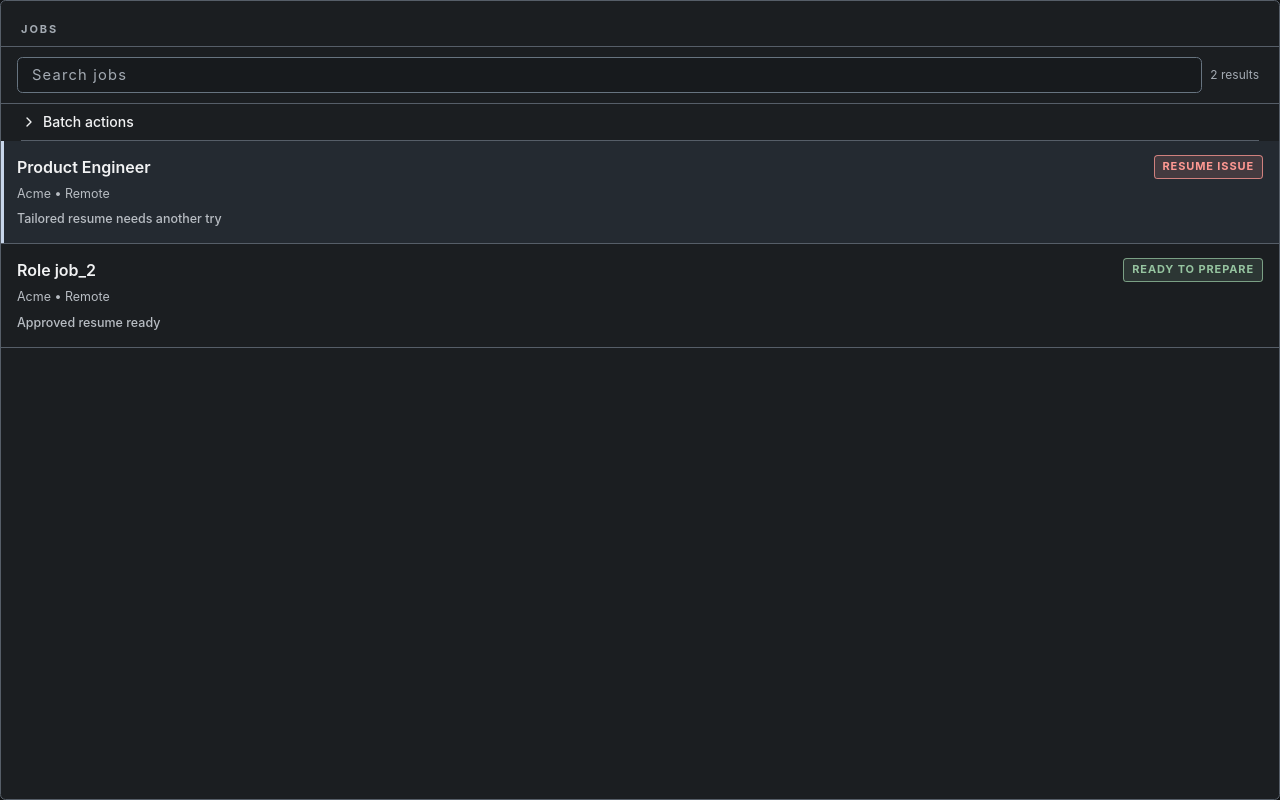
Test case: ReviewQueueListPanel › associates a disabled queue checkbox with its readiness explanation
The image size is (1280, 800).
Click the heading "Batch actions" at (77, 121), box [21,112,134,130]
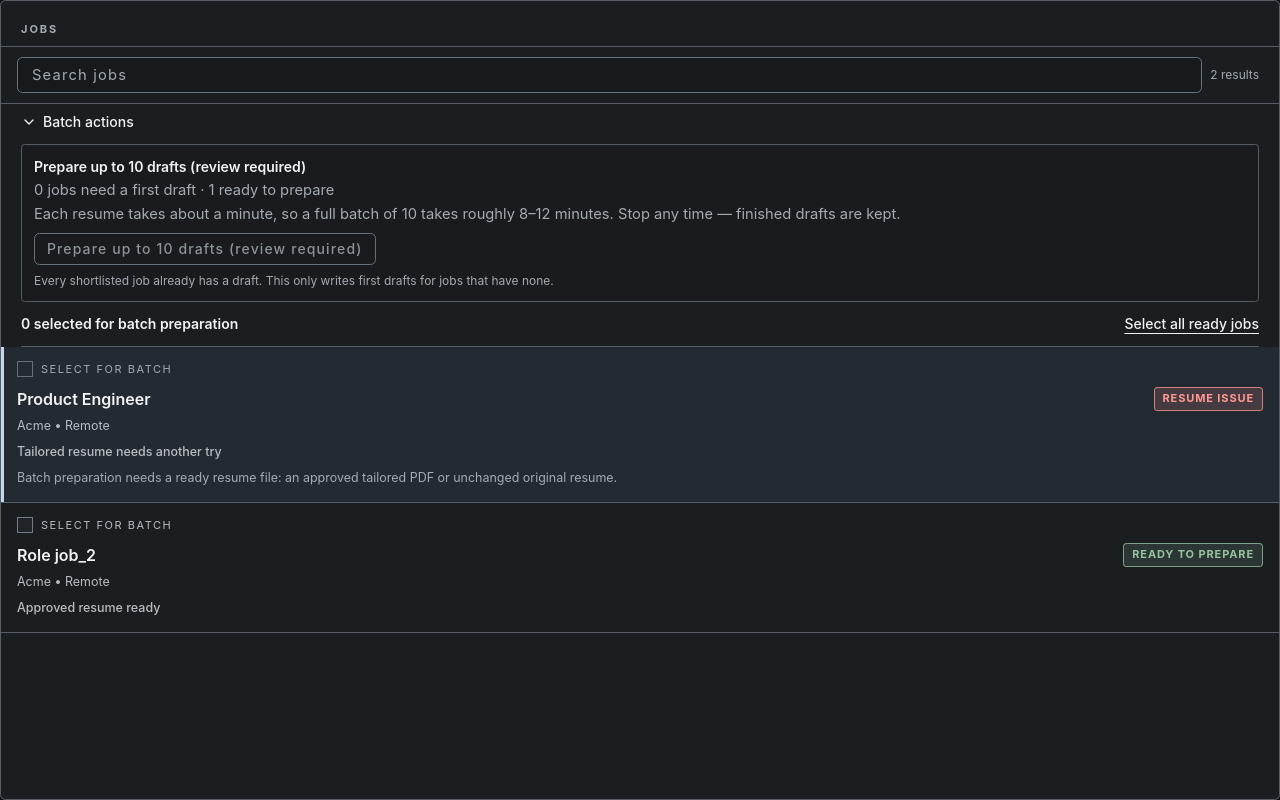
Now the 1st checkbox named "Select for batch" is disabled, box [17,361,33,377]
